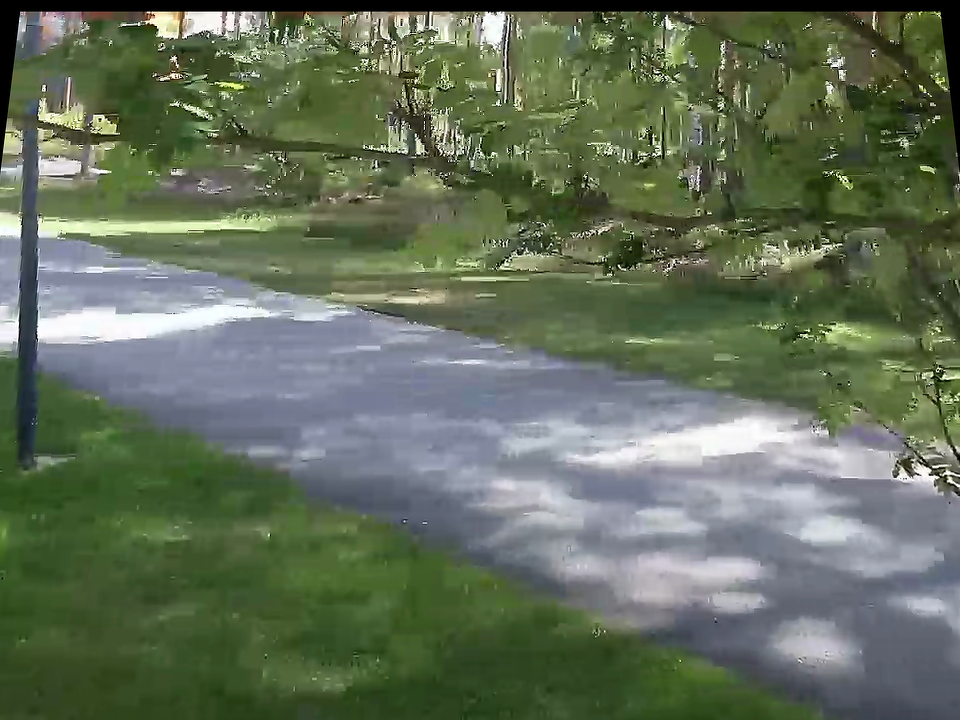branch: (207, 84, 921, 268)
